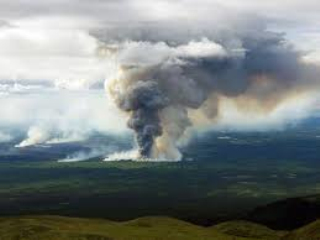smoke: (97, 13, 246, 171)
